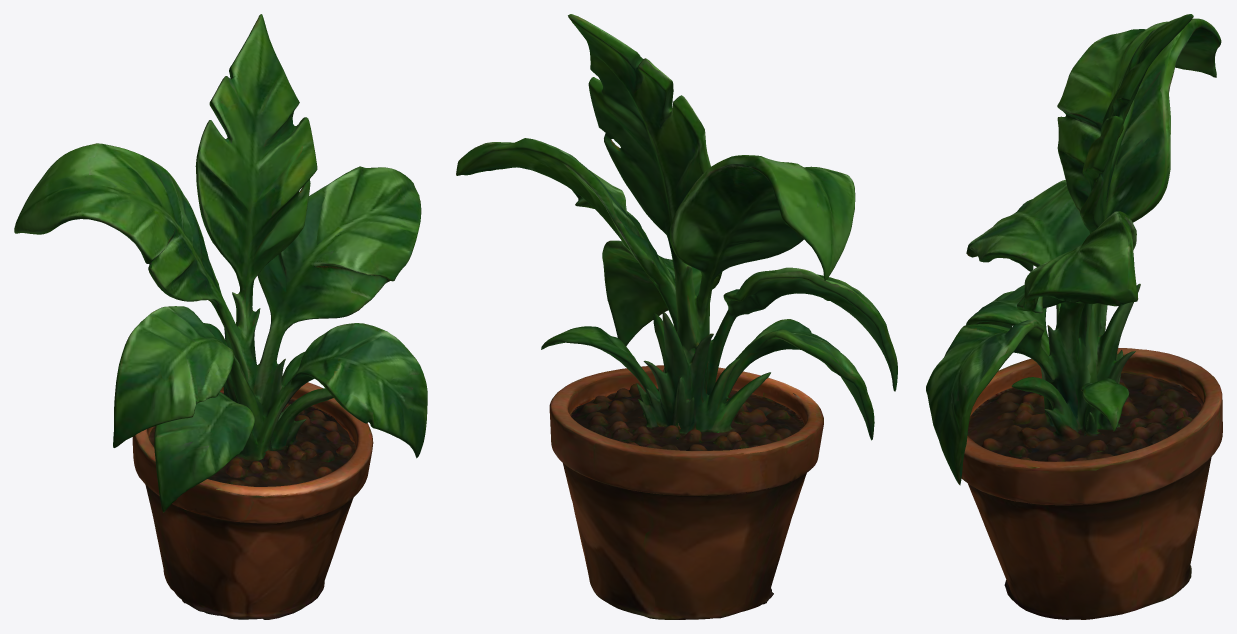
Rendered from neutral_plant.glb.
3 views of the same model, side by side, from view 1: azimuth 30°, elevation 25°; view 2: azimuth 150°, elevation 25°; view 3: azimuth 270°, elevation 25° (orthographic). The views are drawn at different scales.
Size of the model in its own units: 0.6617 by 0.922 by 0.4085.
Materials: 1 (1 with a texture image).
